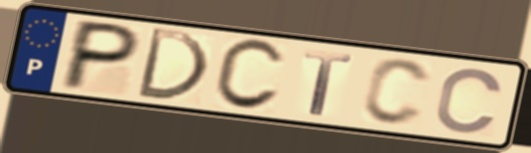C: (209, 37, 289, 114), (359, 56, 435, 129), (432, 66, 507, 136)
D: (132, 25, 212, 104)
P: (55, 17, 146, 92)
T: (301, 48, 355, 118)
